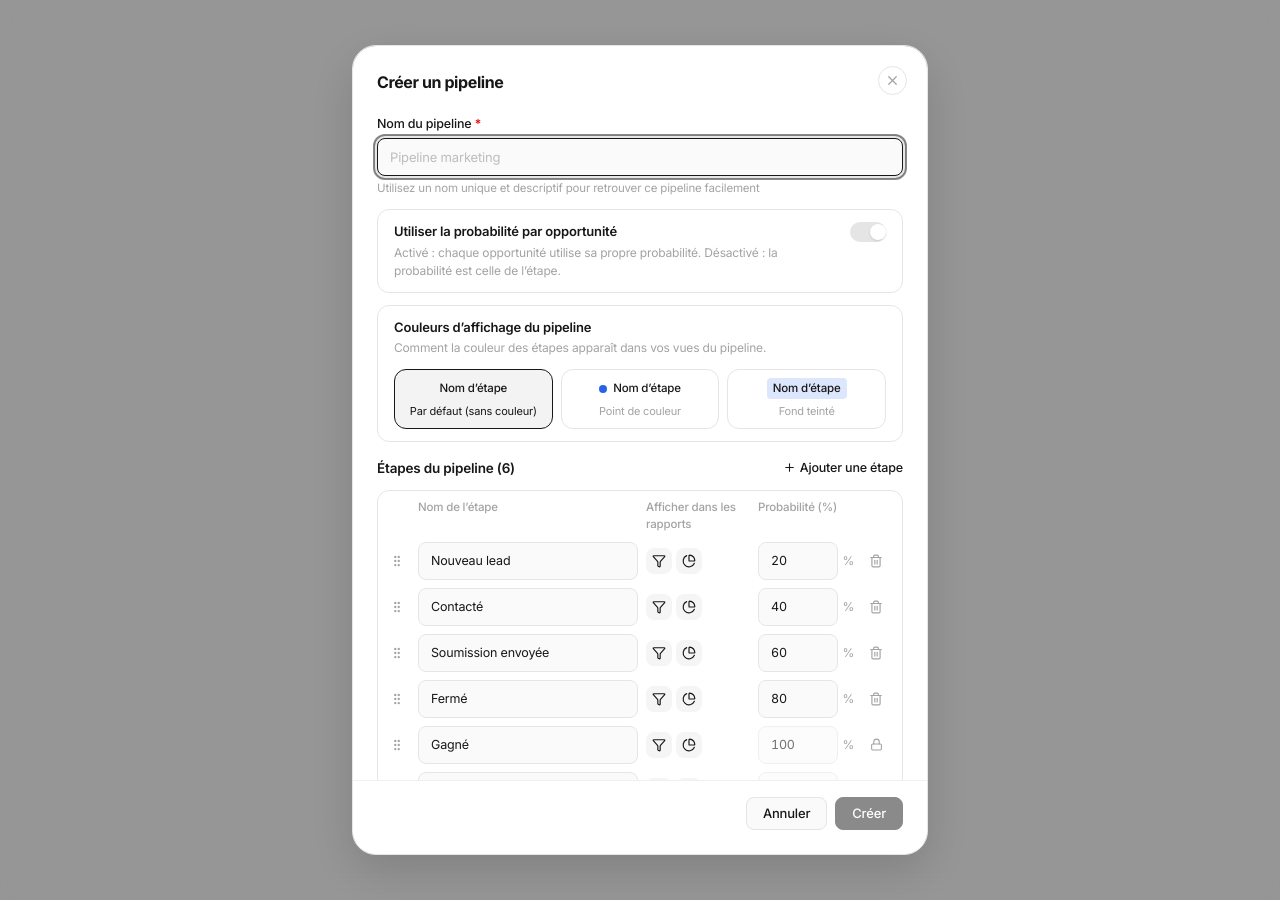
modal « Créer un pipeline » › « + Ajouter une étape » l’insère avant Gagné
Step 1. Click the button "Ajouter une étape" → (843, 468), box left=783, top=458, right=903, bottom=477
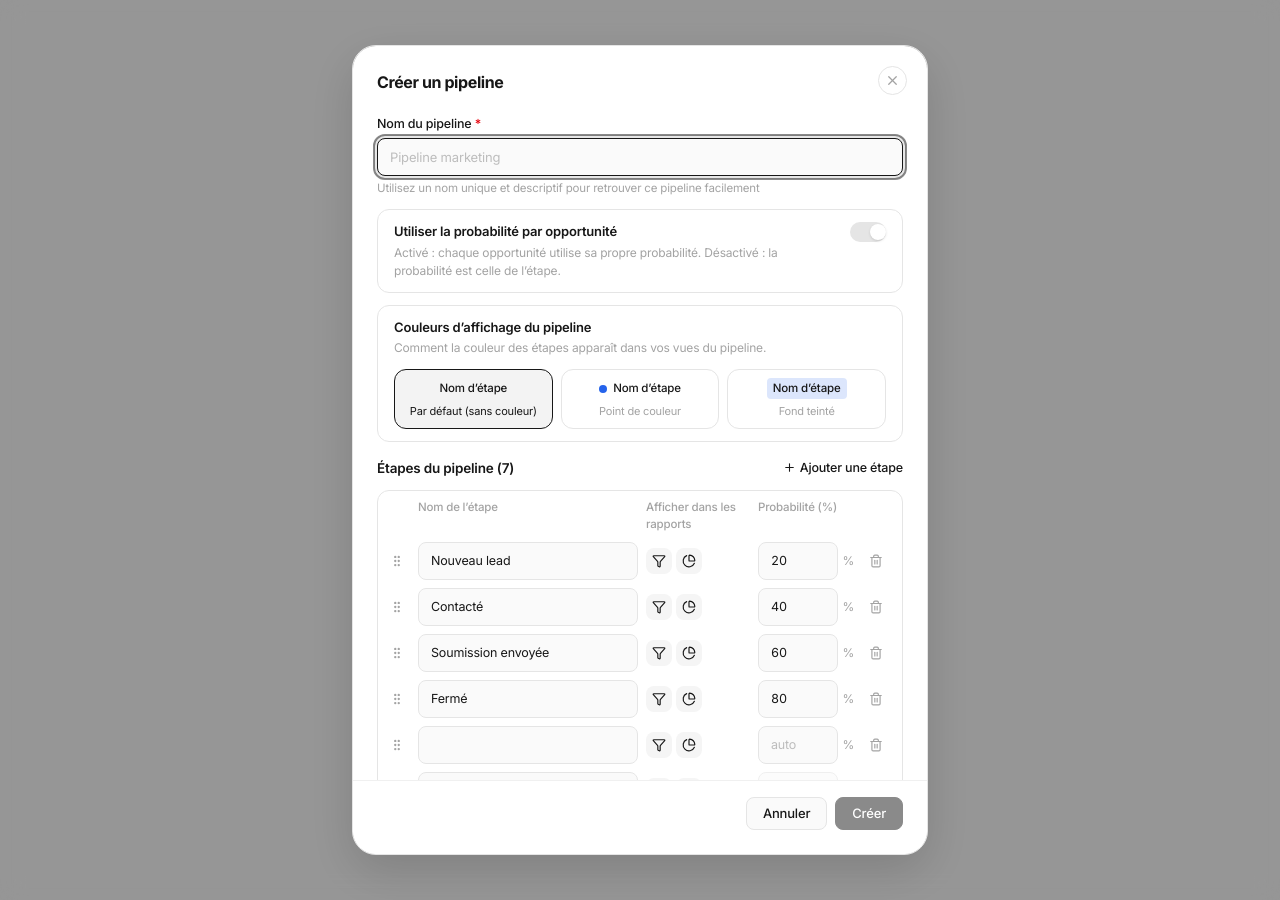
Result: the text "Étapes du pipeline (7)" is shown at left=377, top=458, right=514, bottom=478
